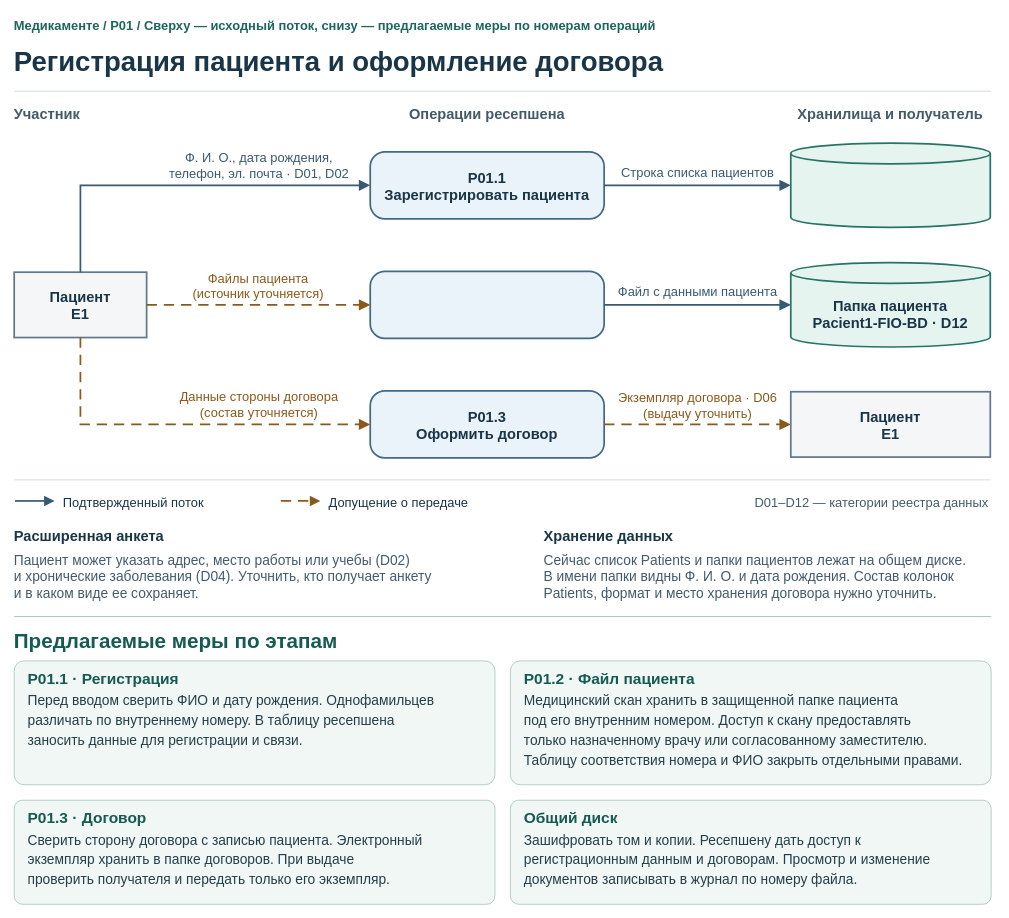
Image size: 1009x918. Some labels were removed from this diagram. The centre of each missing label's shape, as x and y in pixels:
"P01.2 Сохранить файл пациента" belongs at (487,304).
"Patients Список пациентов в Excel" belongs at (890,185).
